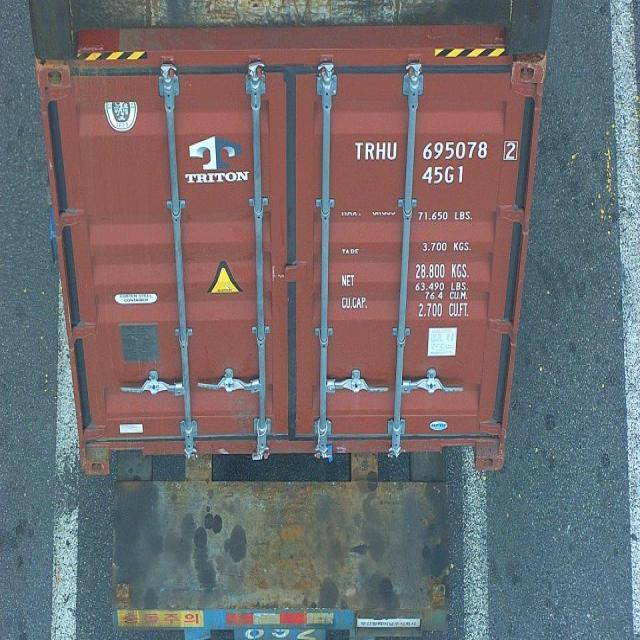ISO: (422, 163, 466, 185)
container_number: (362, 140, 522, 162)
